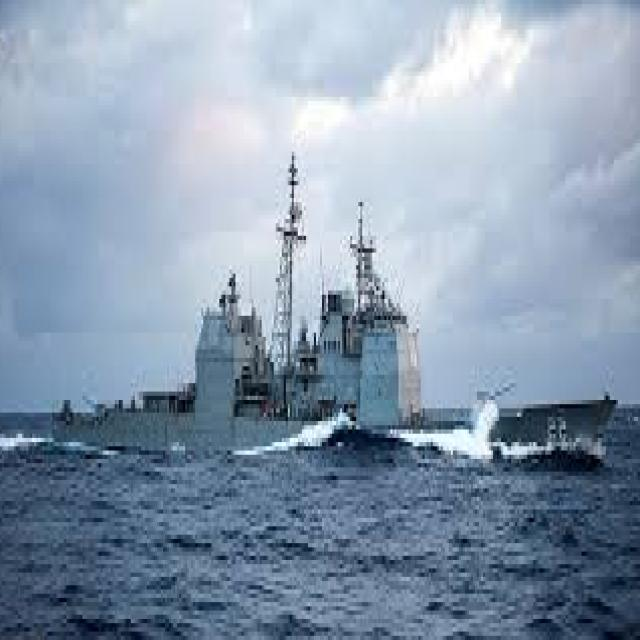navalvessels: (47, 134, 616, 479)
